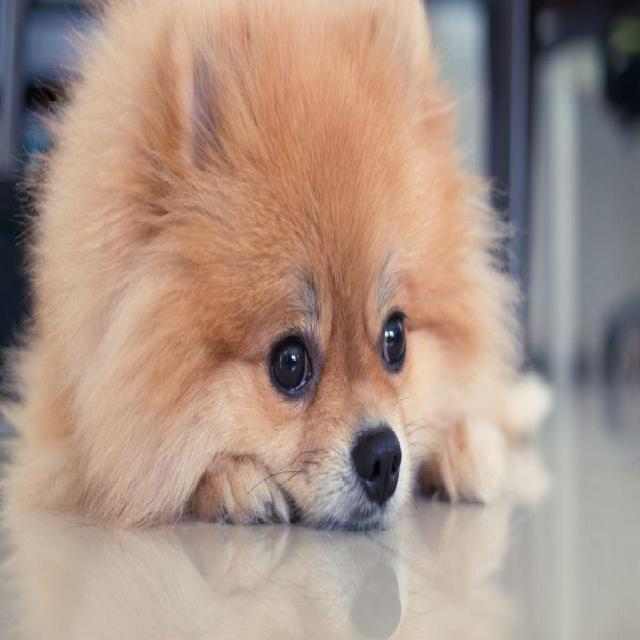Dog: (132, 17, 478, 545)
